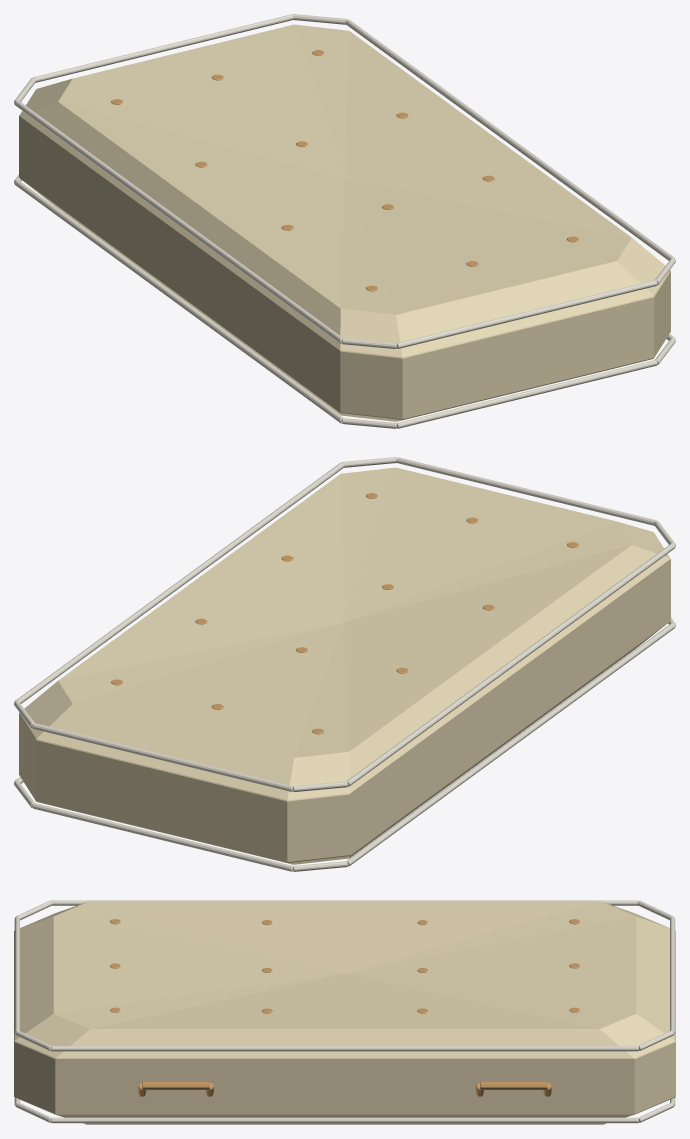
File: b04_curbside_discarded_mattress.glb
3 renders of one model, top to bottom at view 1: azimuth 30°, elevation 25°; view 2: azimuth 150°, elevation 25°; view 3: azimuth 270°, elevation 25°, orthographic. The views are drawn at different scales.
Parts seen in each view (by area): view 1: b04_curbside_discarded_mattress; view 2: b04_curbside_discarded_mattress; view 3: b04_curbside_discarded_mattress.
Part boxes in pixels (x1,y1,x2,y2): b04_curbside_discarded_mattress: (14,14,675,428); b04_curbside_discarded_mattress: (14,457,675,871); b04_curbside_discarded_mattress: (14,900,675,1124).
Bounding box in the file's own units: 1.07 × 0.31 × 1.96.
